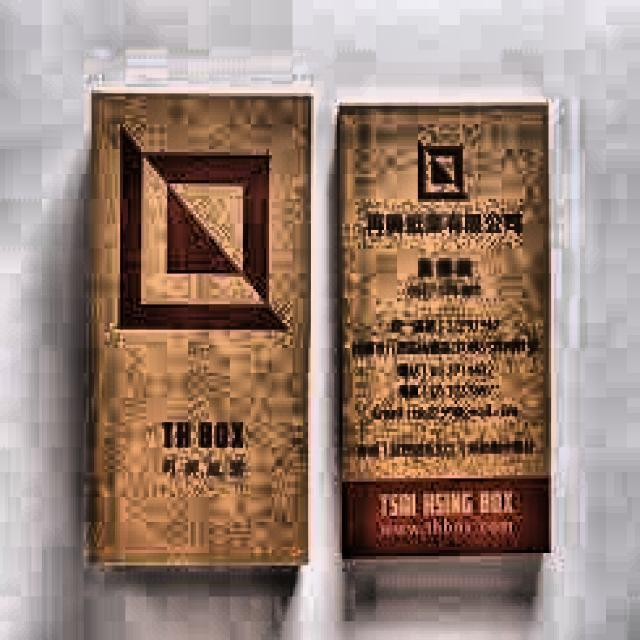cardboard: (86, 87, 311, 566), (334, 100, 552, 560)
